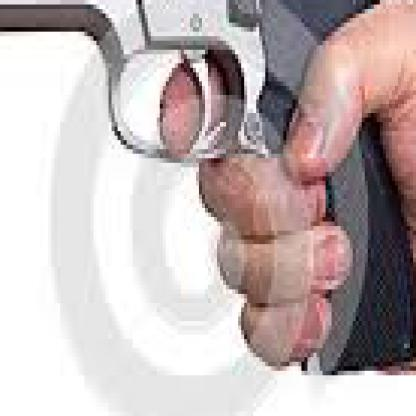gun: (0, 0, 414, 394)
